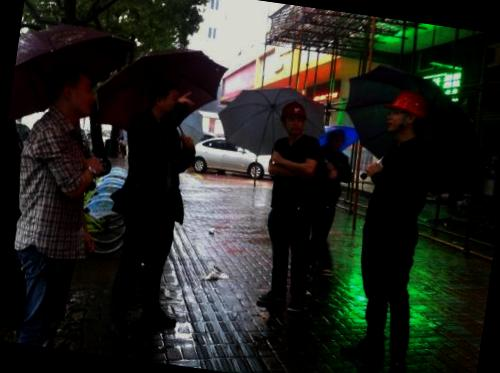no_helmet: (39, 56, 103, 128), (145, 76, 187, 119), (321, 126, 350, 159)
